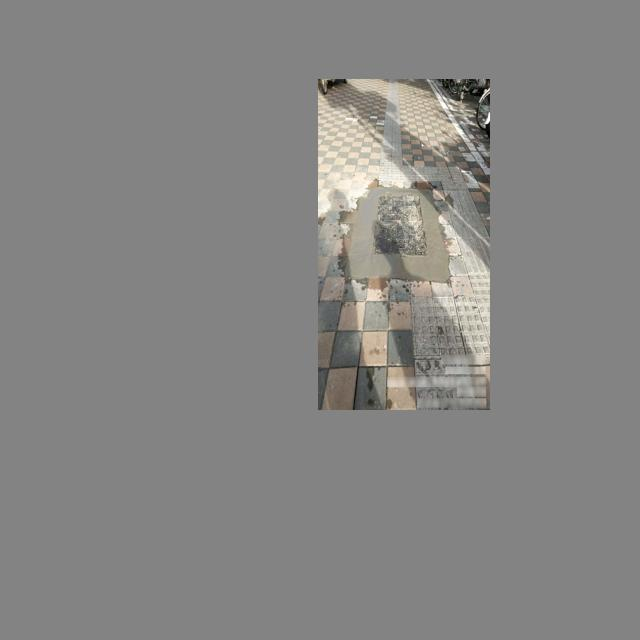good: (370, 193, 429, 256)
